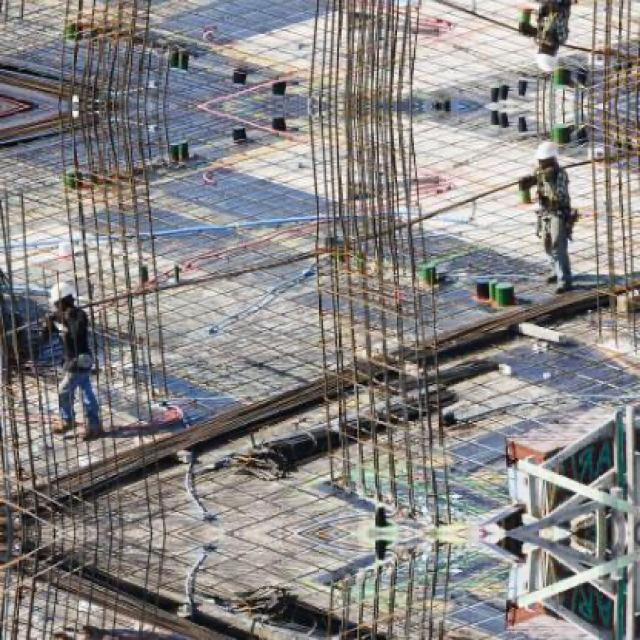2: (49, 281, 106, 438), (526, 139, 576, 293), (524, 0, 576, 76)
helmet: (51, 280, 80, 318), (535, 140, 560, 166), (535, 48, 560, 74)
